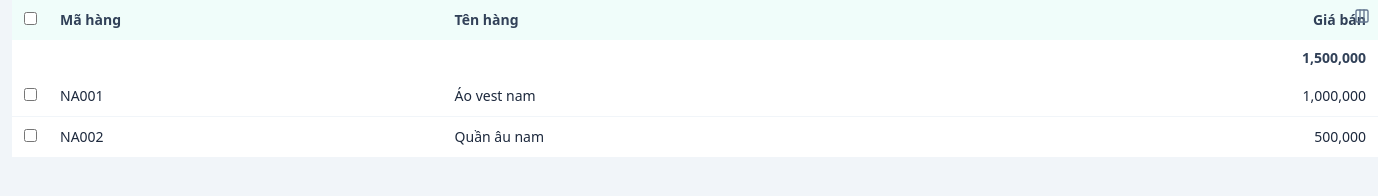
clicking a row toggles its expanded detail
The image size is (1378, 196).
Click the text "NA001" at (82, 96), box [48, 76, 443, 116]
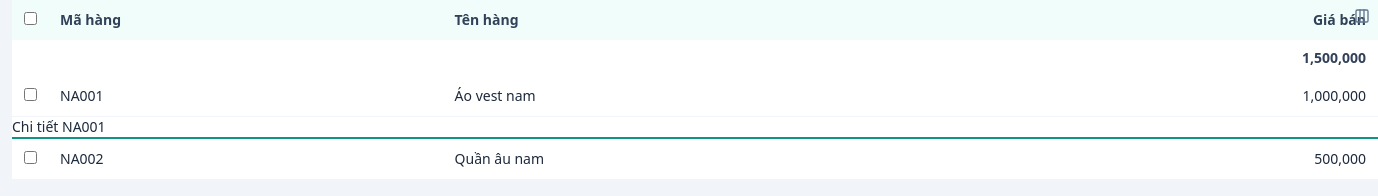
Expected: the text "Chi tiết NA001" is shown, [12, 117, 106, 136]
Click the text "NA001" at (82, 96), box [48, 76, 443, 116]
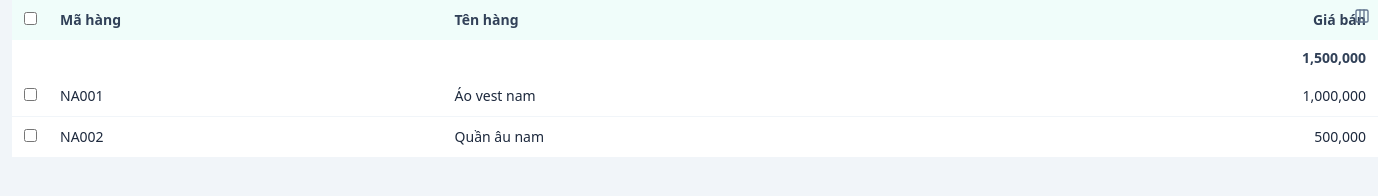
Expected: the text "Chi tiết NA001" is gone
